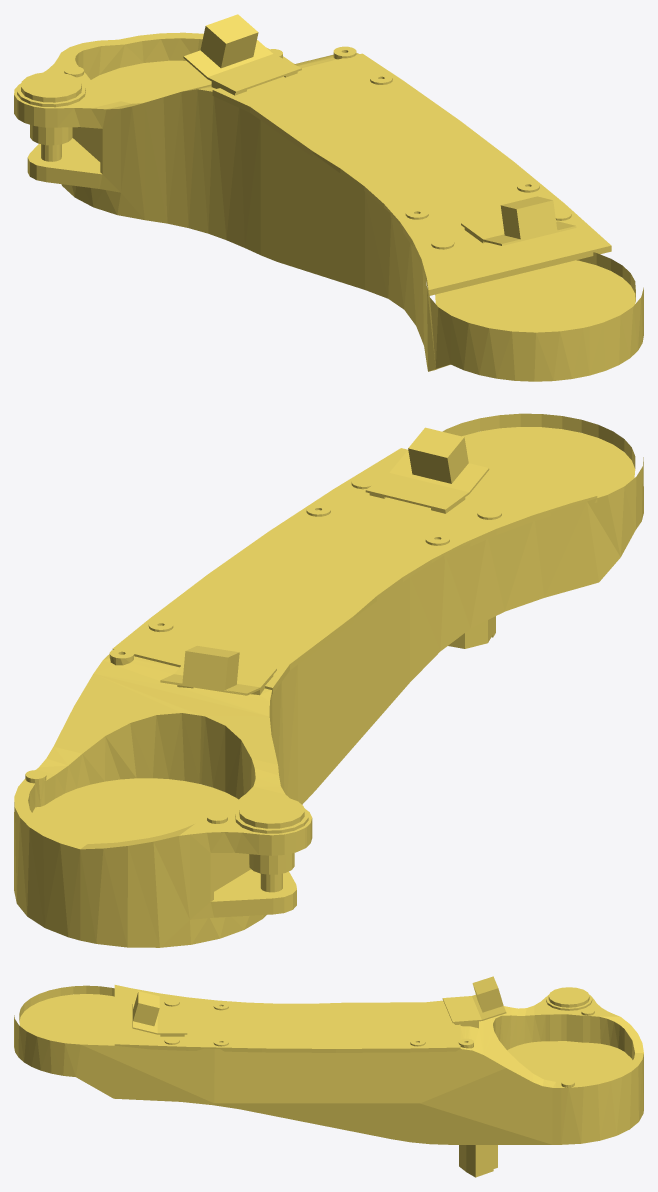
3 renders of one model, top to bottom at view 1: azimuth 30°, elevation 25°; view 2: azimuth 150°, elevation 25°; view 3: azimuth 270°, elevation 25°, orthographic. The views are drawn at different scales.
Parts seen in each view (by area): view 1: /Link2/Link2-mesh/0; view 2: /Link2/Link2-mesh/0; view 3: /Link2/Link2-mesh/0.
Part boxes in pixels (x1,y1,x2,y2): /Link2/Link2-mesh/0: [14, 14, 643, 381]; /Link2/Link2-mesh/0: [14, 413, 643, 947]; /Link2/Link2-mesh/0: [14, 976, 643, 1177].
Size of the model in its own units: 0.4683 by 0.4061 by 1.43.
